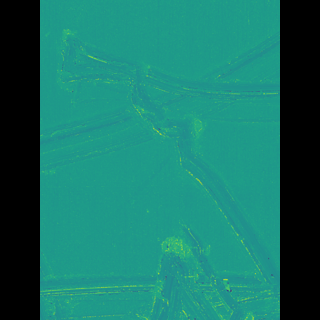Loch: (77, 22, 250, 320)
